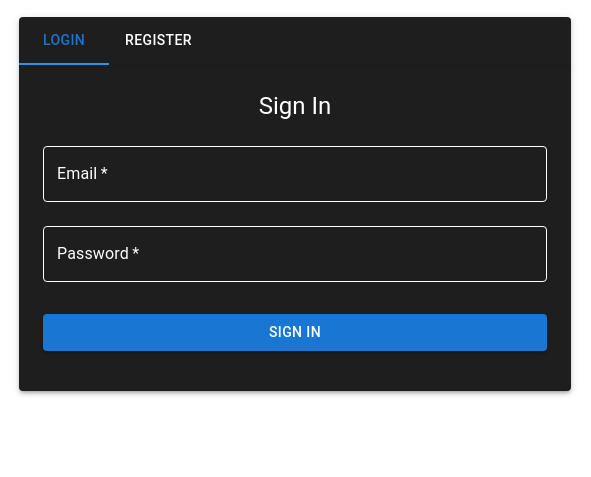
Scenario: Login page › shows error when login fails
Type "bad@example.com" into the field labelled "Email *" at [295, 174], box left=43, top=146, right=547, bottom=202
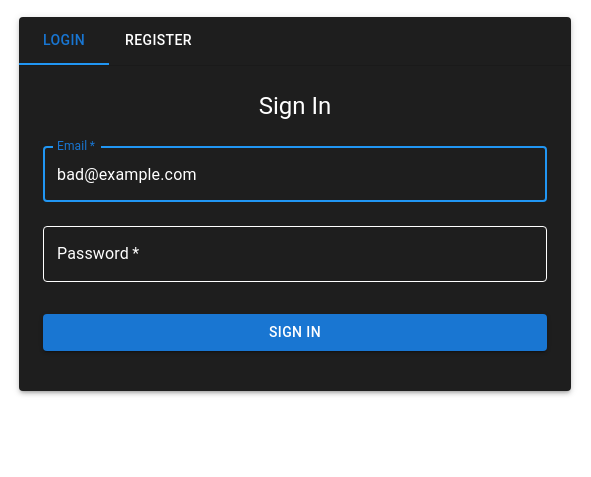
Type "wrong" into the password field labelled "Password *" at [295, 254], box left=43, top=226, right=547, bottom=282
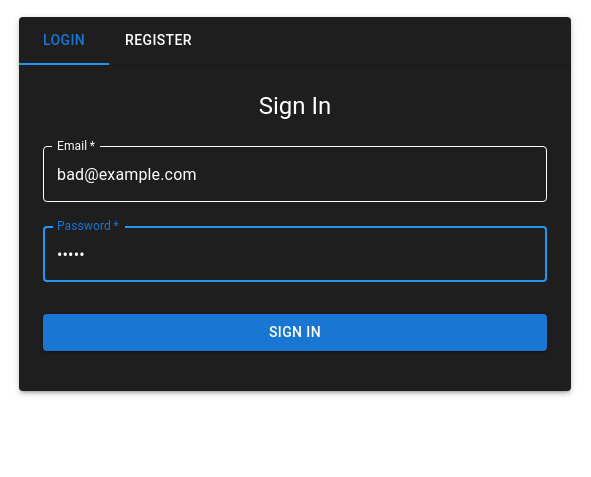
Click the button "Sign In" at [295, 333], box left=43, top=314, right=547, bottom=351
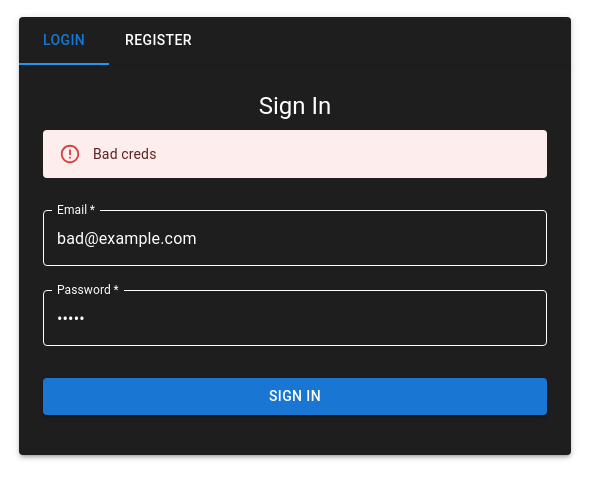
Expected: the text "Bad creds" is shown, left=93, top=146, right=156, bottom=162
